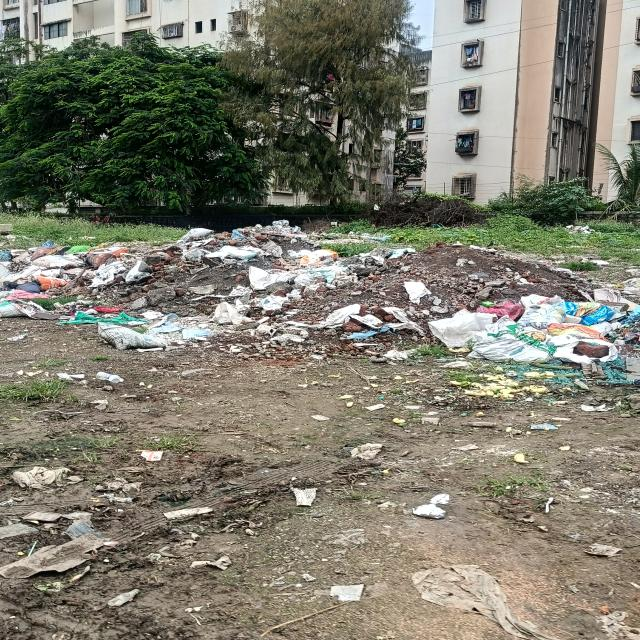garbage: (4, 234, 637, 390)
